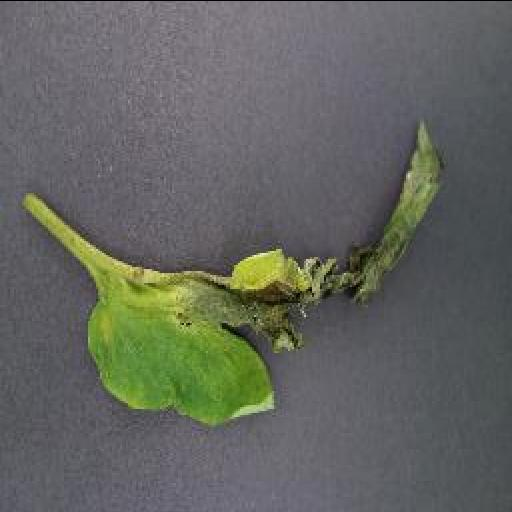disease_tomato: (83, 116, 445, 426)
